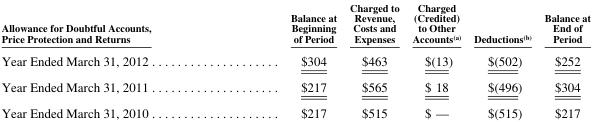table: (0, 1, 589, 119)
table column: (0, 1, 220, 119), (220, 1, 342, 119), (466, 1, 537, 119), (342, 1, 405, 119), (405, 1, 466, 119), (537, 1, 589, 119)
table column header: (0, 1, 589, 48)
table row: (0, 1, 589, 48), (0, 73, 589, 99), (0, 48, 589, 73), (0, 99, 589, 119)
